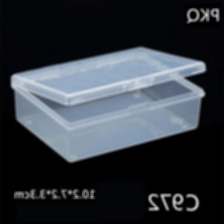plastic_box: (5, 38, 214, 168)
